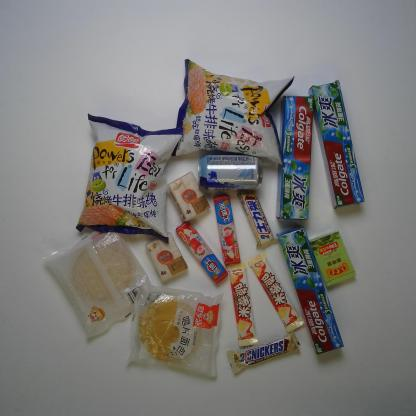Alcohol: (195, 147, 273, 196)
Candy: (168, 219, 227, 288), (312, 230, 362, 291), (210, 193, 244, 271)
Chocolate: (247, 251, 310, 333), (223, 339, 316, 375), (222, 262, 258, 346), (236, 188, 276, 252)
Dessert: (36, 230, 170, 348), (122, 278, 228, 377)
Personal Hygiene: (275, 228, 346, 367), (307, 80, 373, 220), (274, 91, 326, 223)
Puffed Food: (170, 53, 300, 170), (83, 102, 175, 242)
Tissue: (168, 168, 210, 223), (146, 233, 185, 283)
